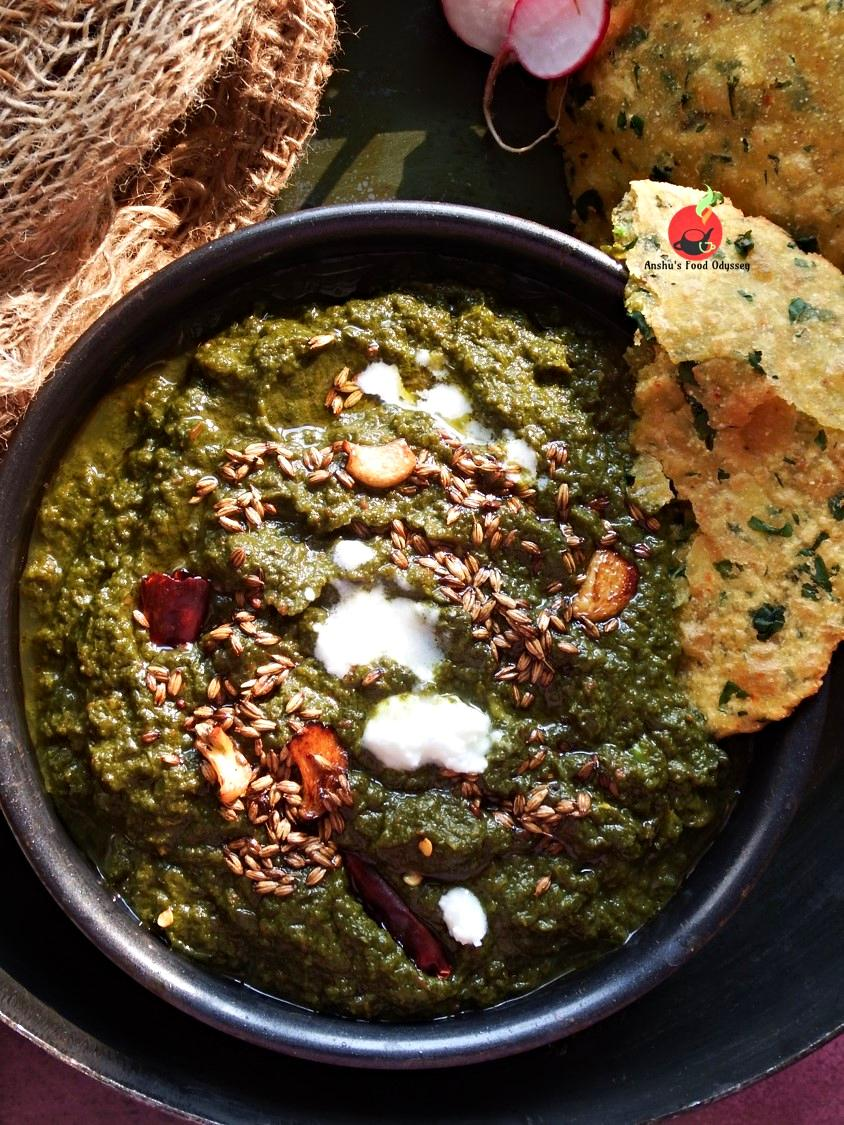saag: (22, 282, 691, 1026)
